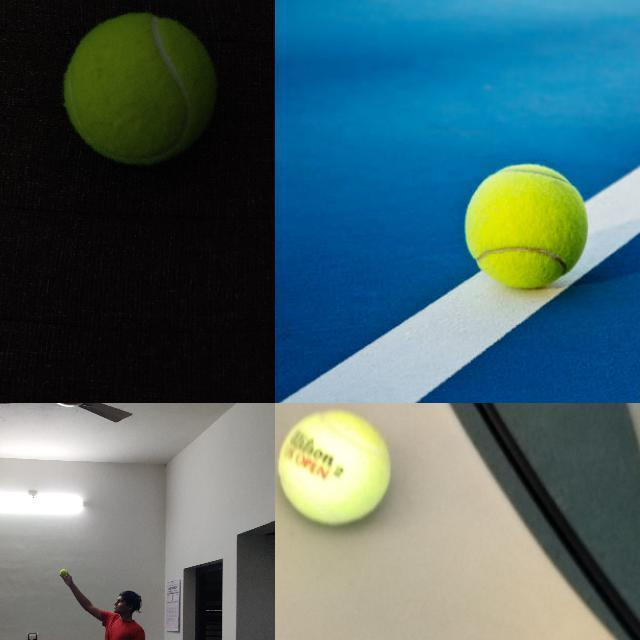tennis-ball: (64, 12, 217, 164), (464, 162, 589, 288), (275, 409, 393, 527), (59, 568, 67, 576)
